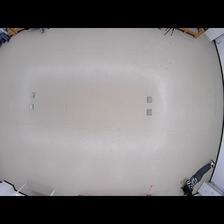fall: (180, 158, 216, 195)
